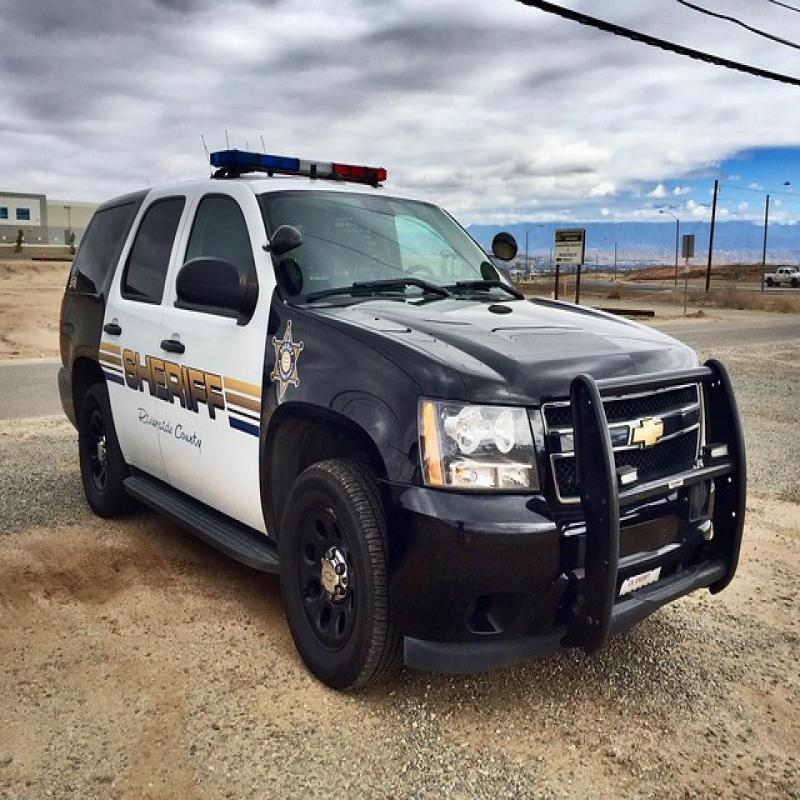AmbulanceSiren: (194, 125, 407, 194)
